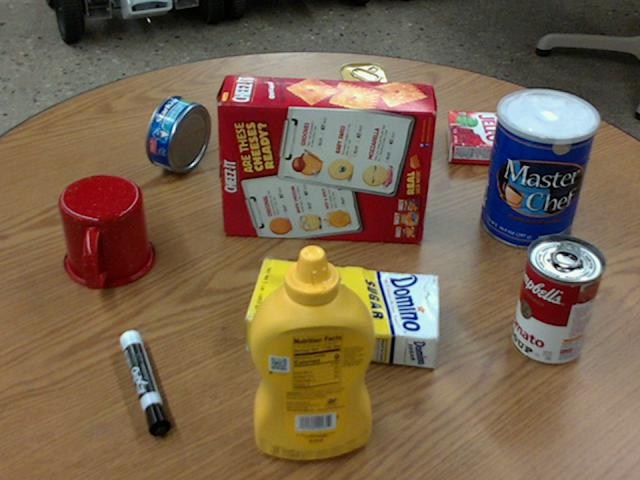cracker_box: (217, 76, 433, 242)
gelatin_box: (448, 108, 512, 164)
large_marker: (119, 330, 168, 435)
master_chef_can: (481, 88, 597, 248)
mug: (59, 175, 155, 287)
mustard_bottle: (248, 245, 373, 458)
potted_meat_can: (341, 62, 394, 159)
sugar_box: (245, 257, 440, 368)
tomato_soup_can: (512, 235, 605, 364)
tuna_fish_can: (146, 96, 209, 172)
